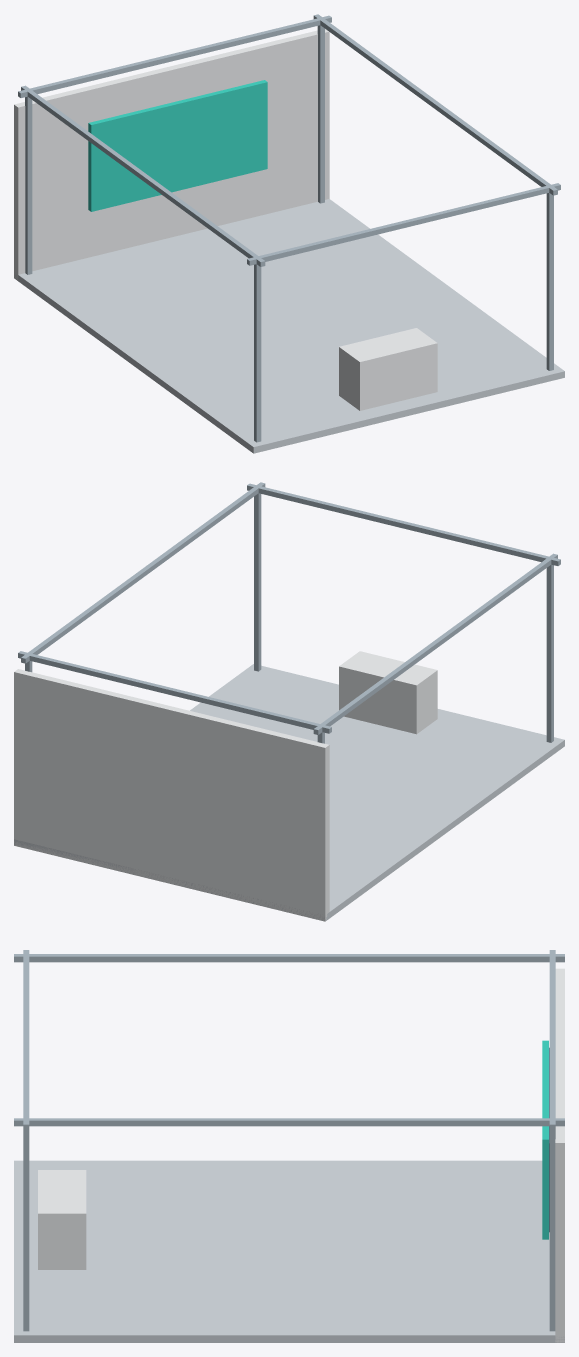
The picture shows the model from 3 angles, top to bottom: view 1: azimuth 30°, elevation 25°; view 2: azimuth 150°, elevation 25°; view 3: azimuth 270°, elevation 25°; orthographic projection. The views are drawn at different scales.
Parts seen in each view (by area): view 1: Exhibition Booth Concept; view 2: Exhibition Booth Concept; view 3: Exhibition Booth Concept.
Part boxes in pixels (x1,y1,x2,y2): Exhibition Booth Concept: [14, 14, 564, 453]; Exhibition Booth Concept: [14, 482, 564, 921]; Exhibition Booth Concept: [14, 950, 564, 1342].
Size of the model in its own units: 6 by 3.49 by 8.
